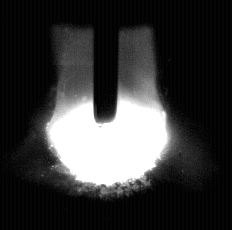arame: (95, 0, 118, 123)
poca: (46, 0, 169, 230)
